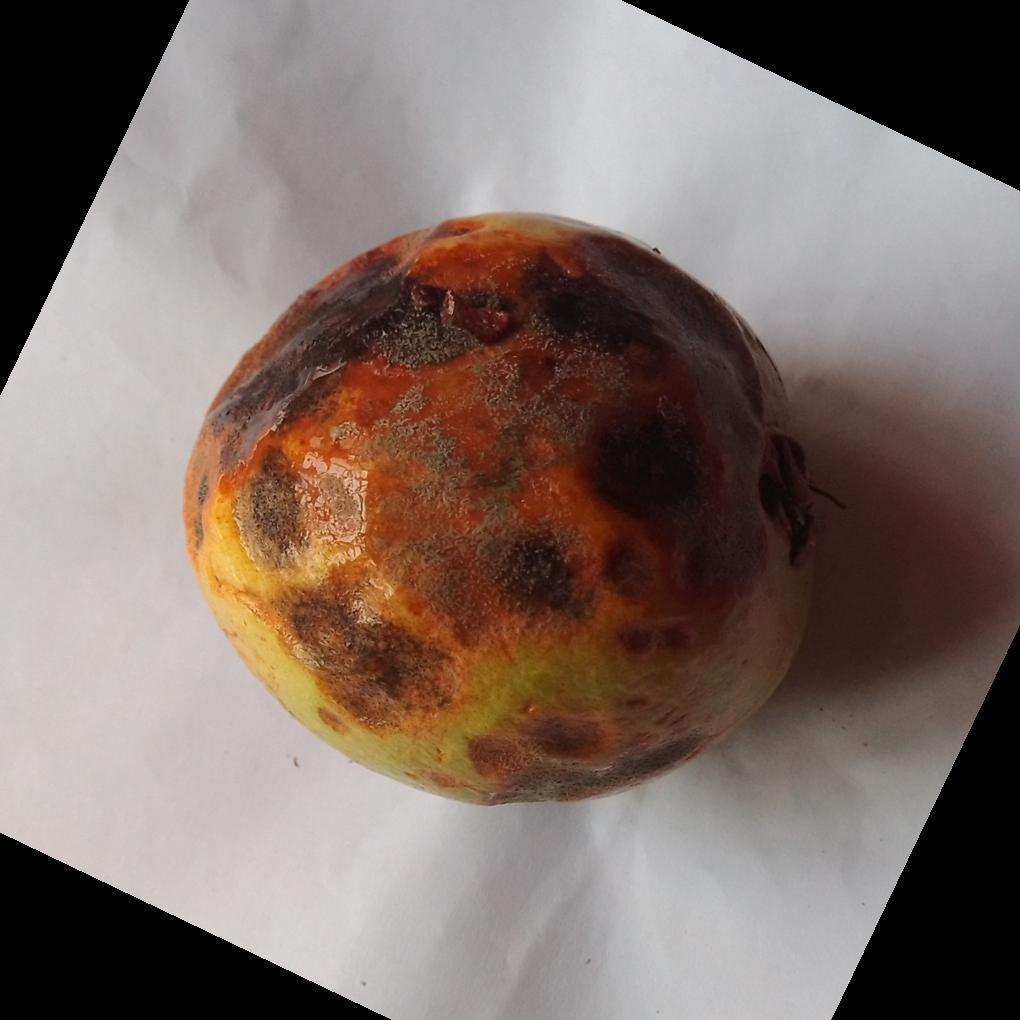FreshOrange: (180, 212, 819, 810)
